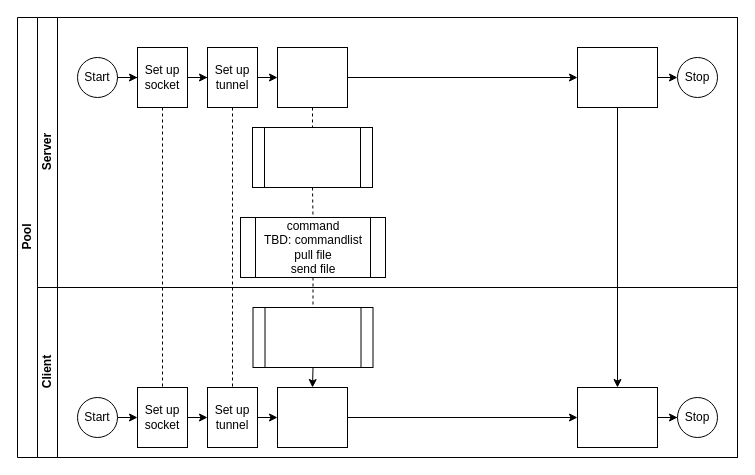
Some shapes in this 755 by 475 pixel diagram are drawn without their labels. The box of each missing label's shape, as (x1, y1, x2, y2) in pixels:
Disconnect: (576, 386, 658, 448)
Execute command and send results: (276, 386, 348, 448)
output to file in client: (252, 306, 373, 368)
output to file in server: (252, 126, 372, 188)
Send command and wait: (276, 46, 348, 108)
Send disconnect and disconnect: (576, 46, 658, 108)
